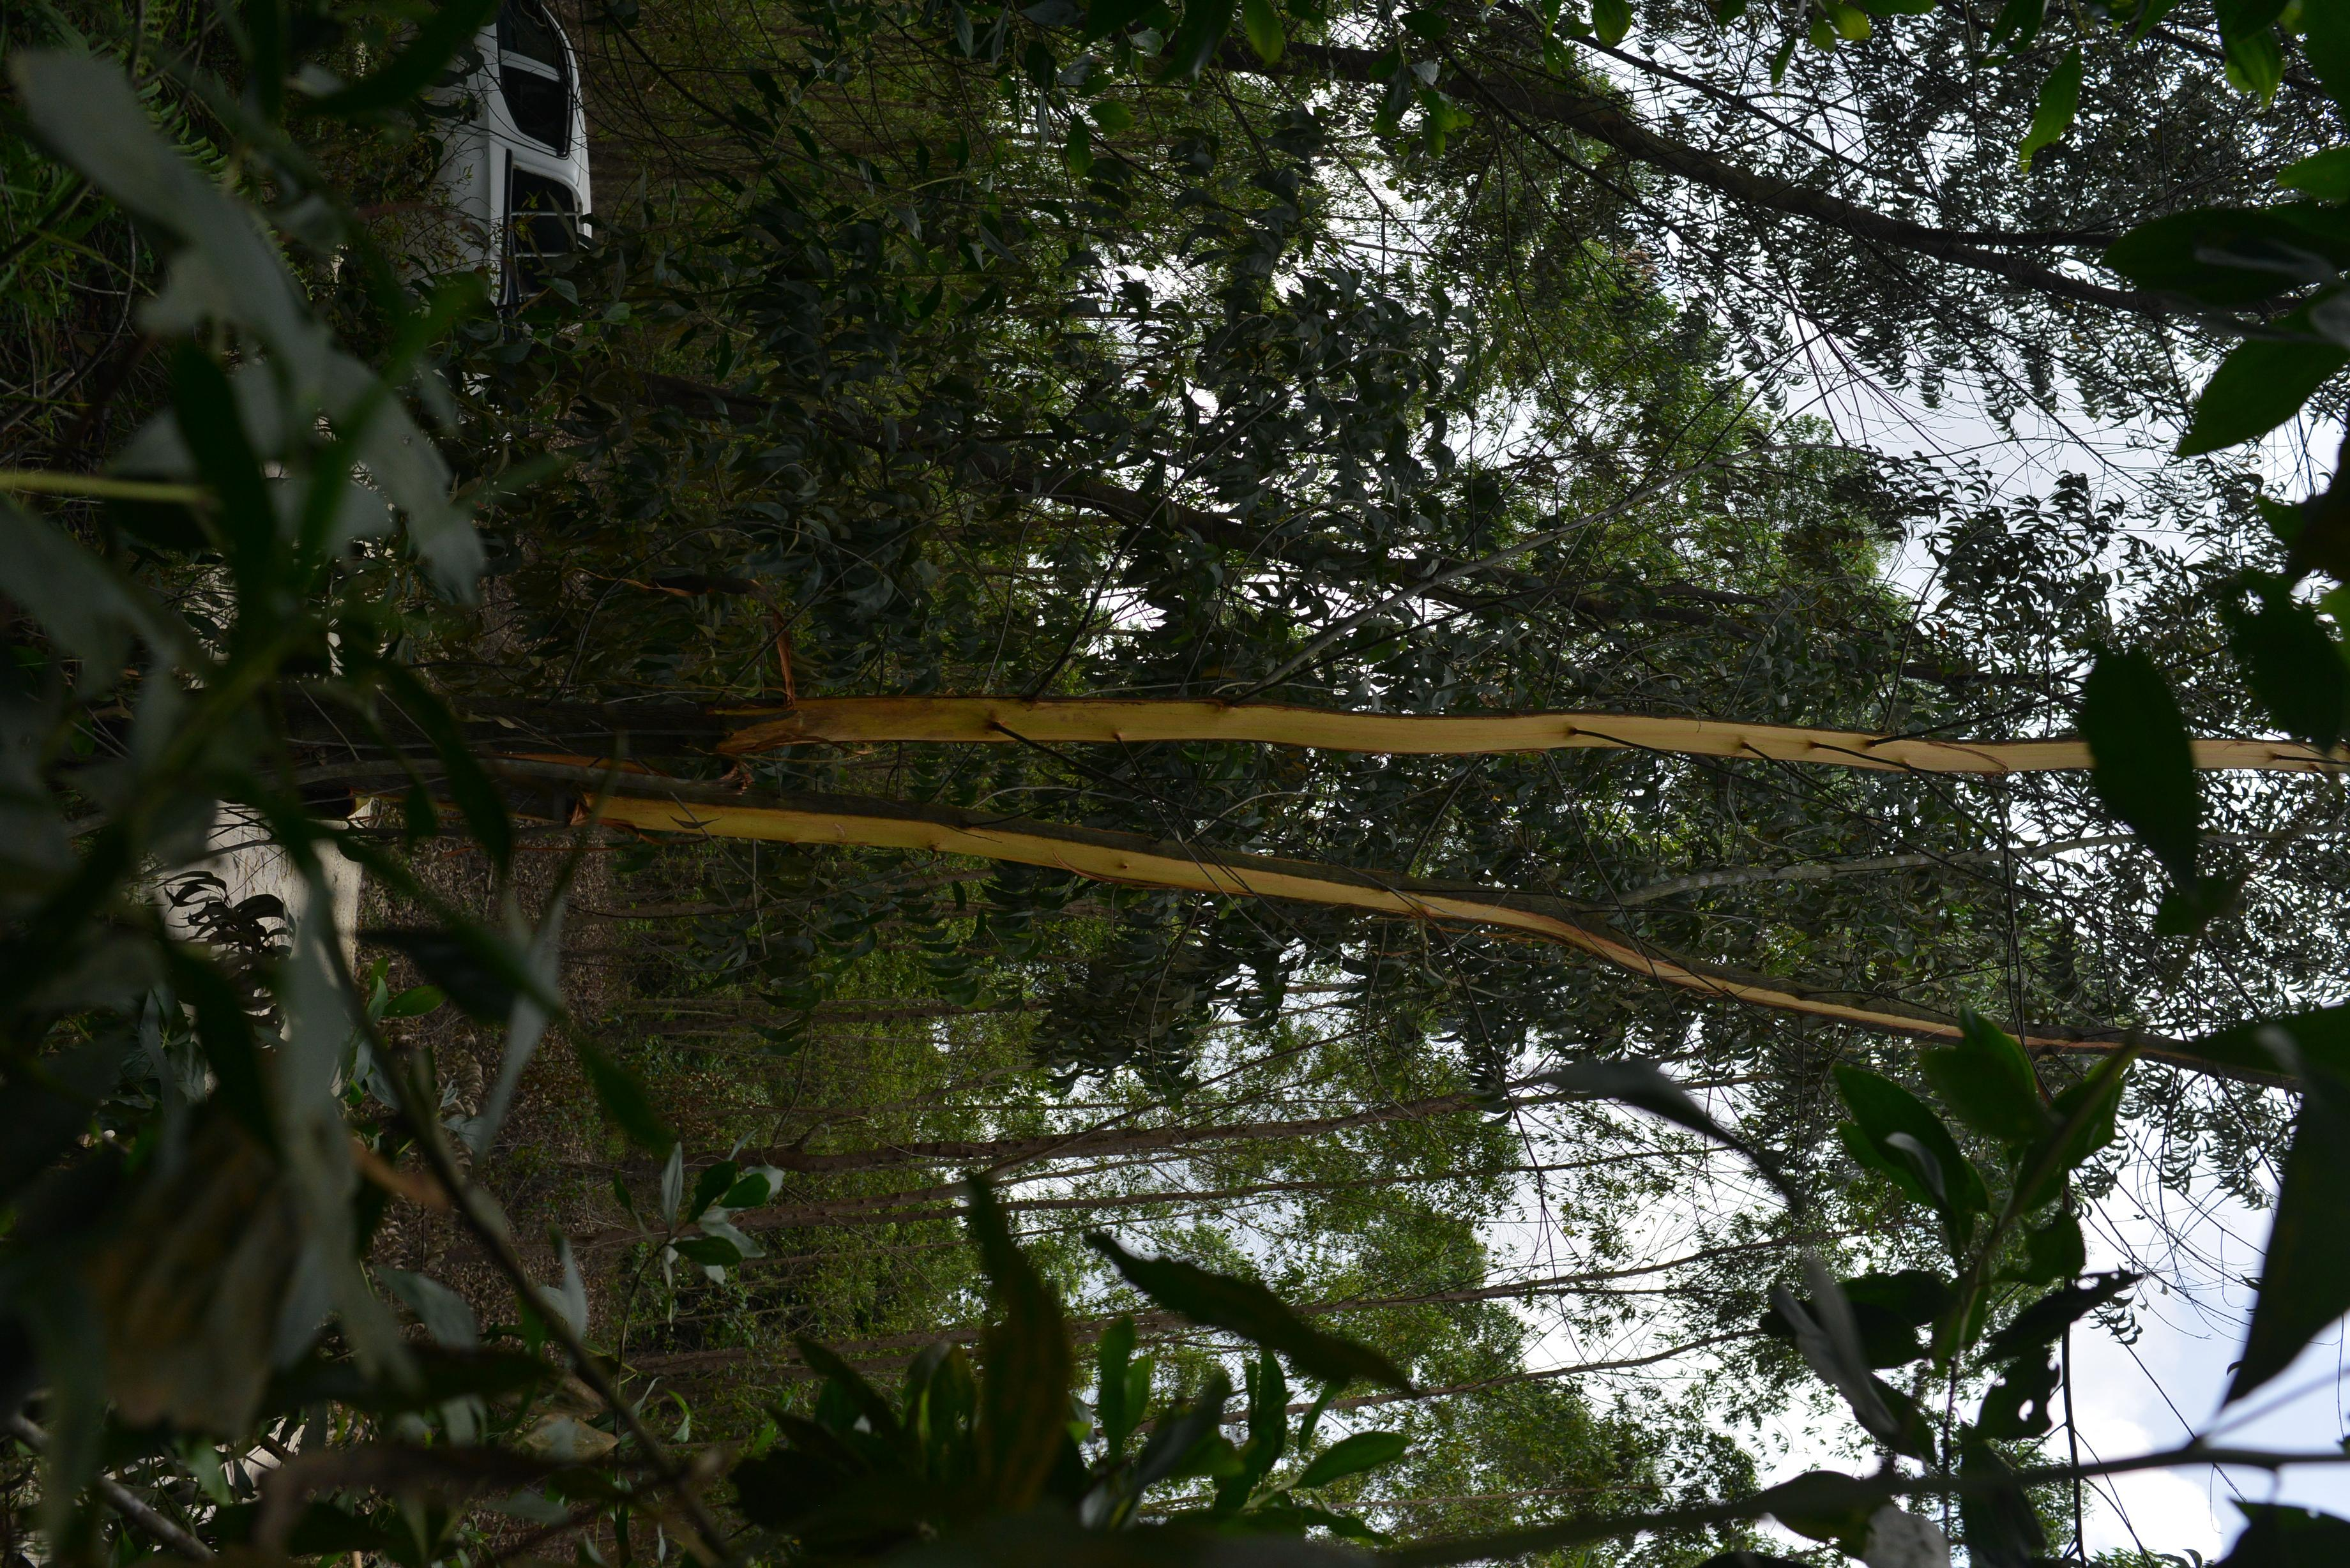Mammals Attack: (543, 789, 2350, 1126), (681, 717, 2336, 760)
